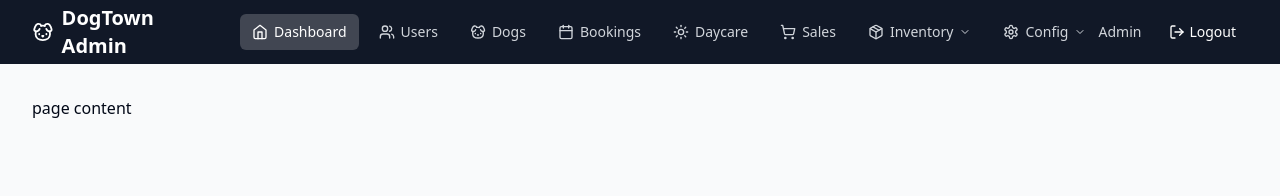
Test: AdminLayout — Inventory dropdown › closes after clicking a sub-item link
Click the button "Inventory".
click(920, 32)  # box [856,14,984,50]
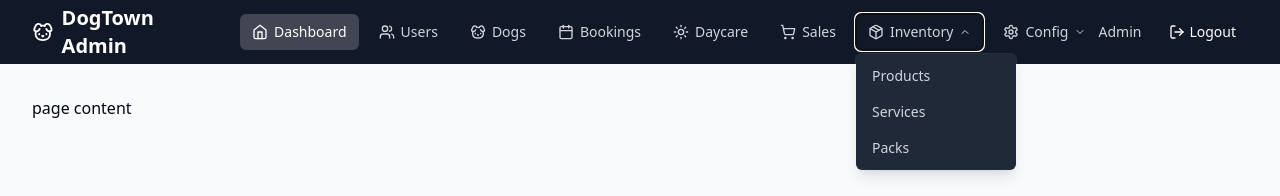
Expected: the link "Products" is shown
Click the link "Products".
click(901, 76)  # box [872,66,930,85]
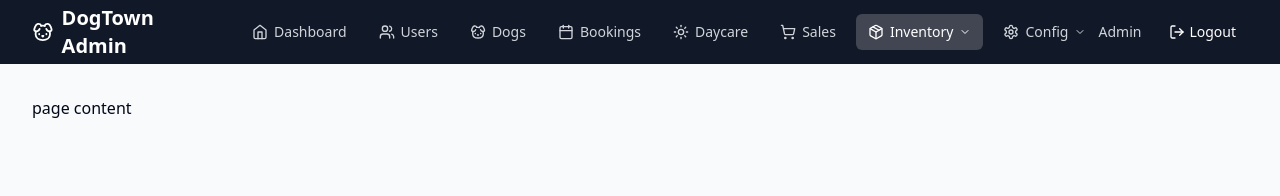
Expected: the link "Products" is gone
